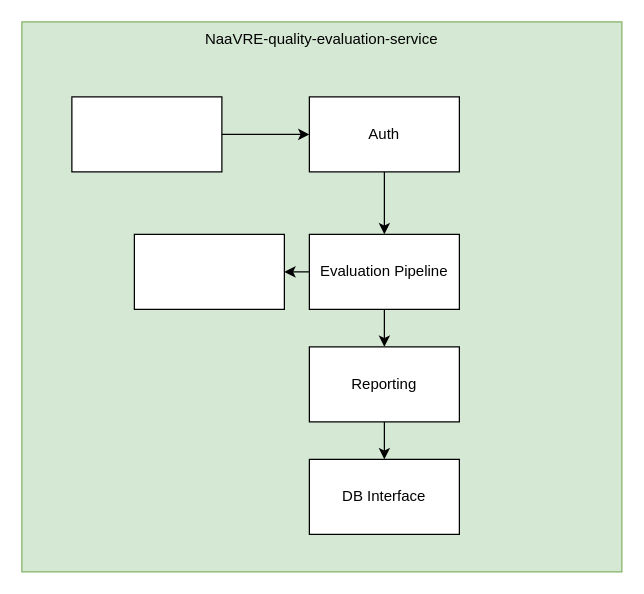
Some shapes in this 644 by 594 pixel diagram are drawn without their labels. The centre of each missing label's shape, as x and y in pixels:
API: the point at 146,134
Quality Models: the point at 208,271
